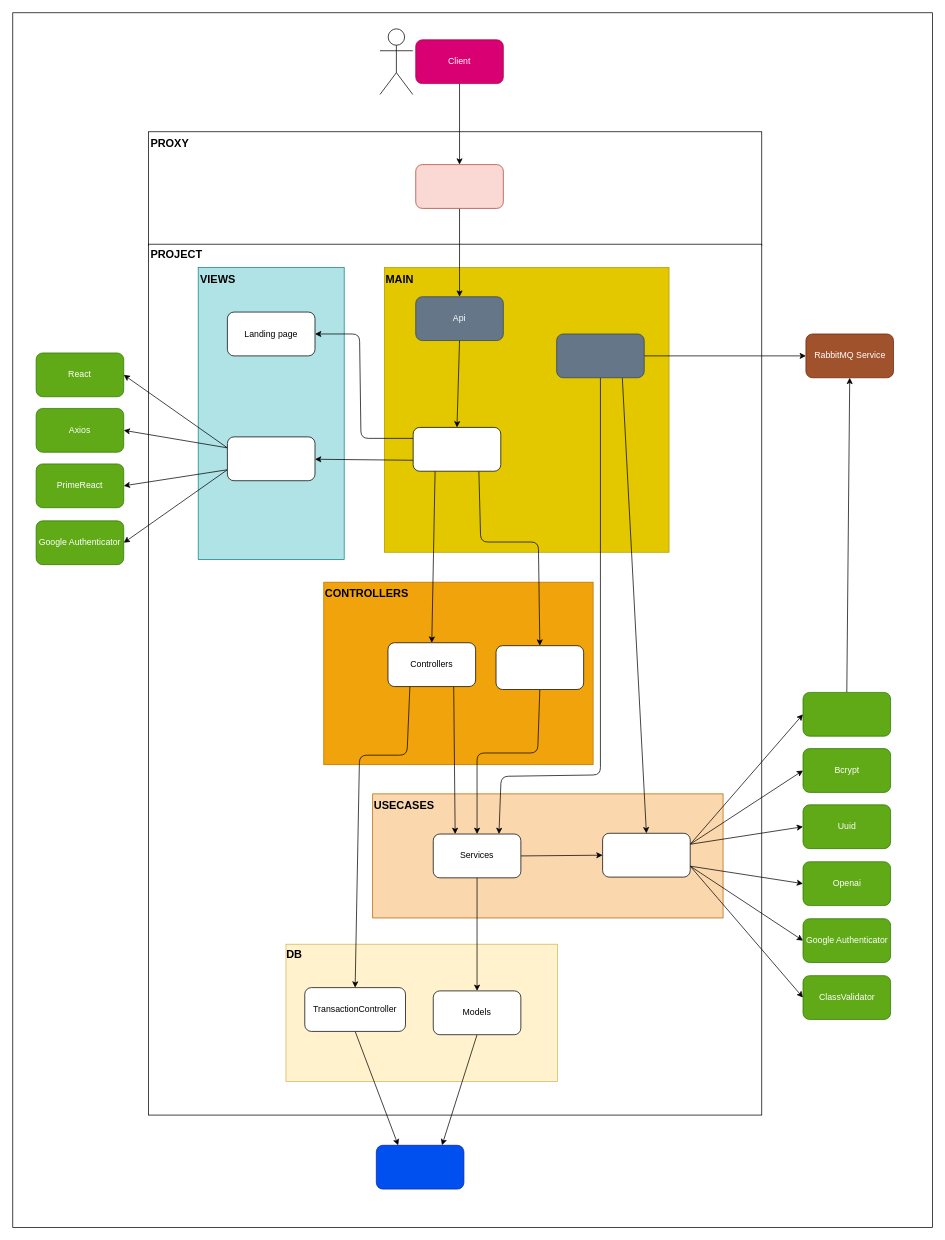
Some shapes in this 945 by 1240 pixel diagram are drawn without their labels. The shapes that lost their labels are listed below. From the top down, each one's centre as x and y in pixels, then its label:
pixel 459 186: Nginx
pixel 600 355: QueueConsumer
pixel 271 458: App (SPA)
pixel 456 449: Routes
pixel 539 667: Middlewares
pixel 846 714: RabbitMQ
pixel 646 855: Adapters
pixel 420 1167: Postgres
